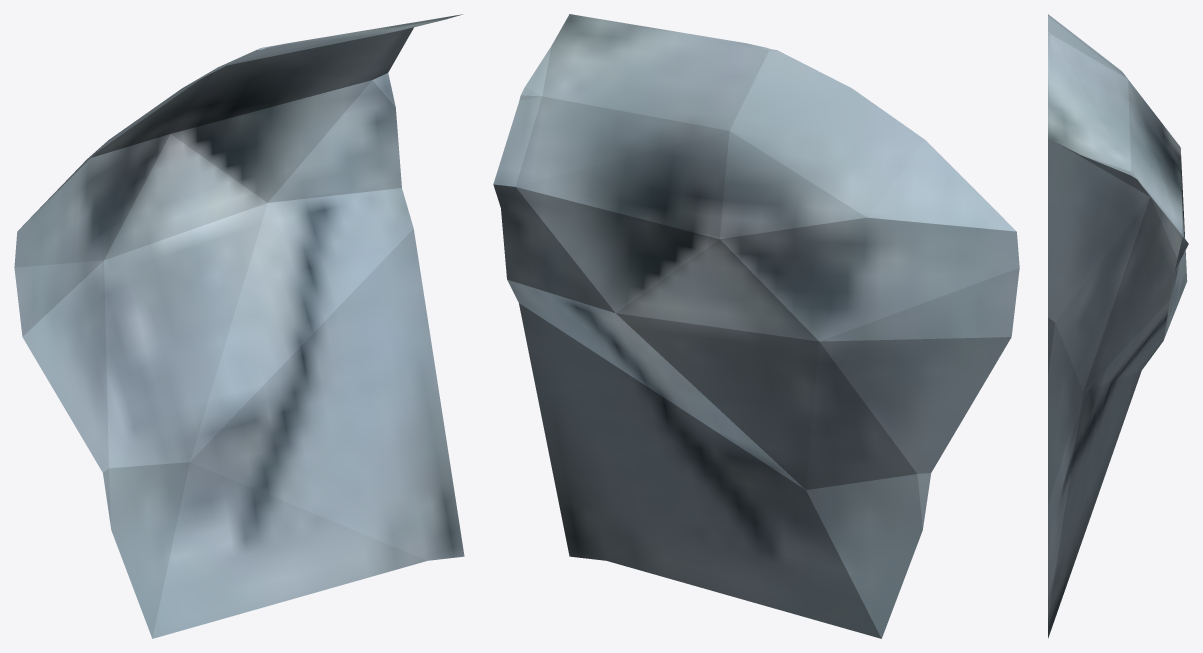
3 renders of one model, left to right at view 1: azimuth 30°, elevation 25°; view 2: azimuth 150°, elevation 25°; view 3: azimuth 270°, elevation 25°, orthographic. The views are drawn at different scales.
Bounding box in the file's own units: 0.4012 × 0.4797 × 0.1178.
Materials: 1 (1 with a texture image).
